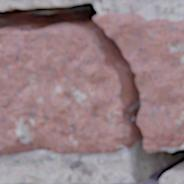broken_brick: (0, 28, 129, 155), (95, 14, 183, 150)
crack: (0, 0, 183, 183)
